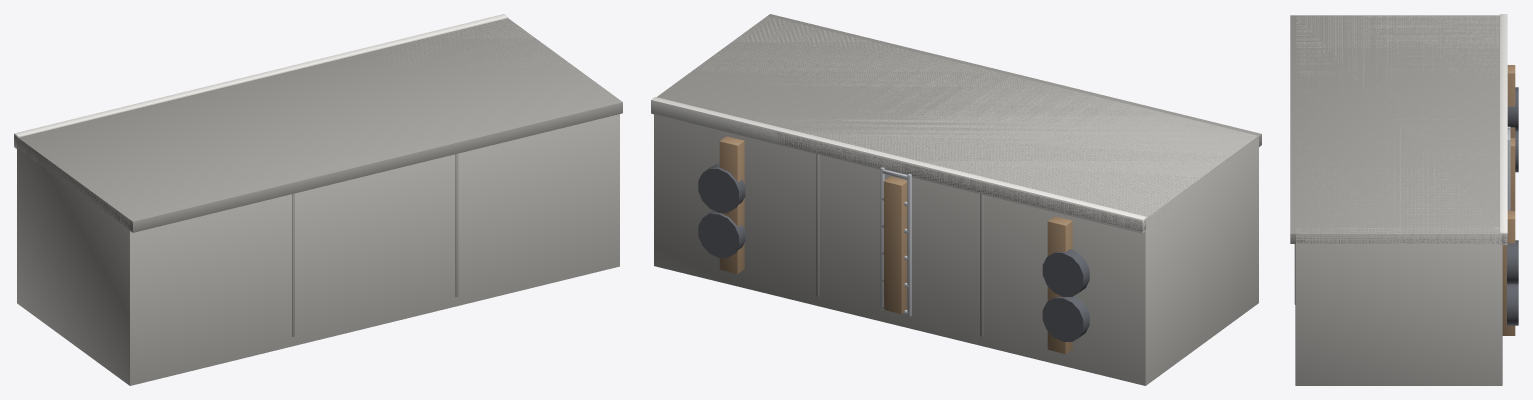
Rendered from th45_kaimauer.glb.
3 views of the same model, side by side, from view 1: azimuth 30°, elevation 25°; view 2: azimuth 150°, elevation 25°; view 3: azimuth 270°, elevation 25° (orthographic). The views are drawn at different scales.
Visible parts, largest first — view 1: Cube, Cube.001, Cube.002, Cube.015; view 2: Cube, Cube.001, Cube.002, Cube.004, Cube.005, Cylinder.001, Cylinder, Cylinder.003, Cylinder.002, Cube.003, Cube.012, Cube.014 (+2 smaller); view 3: Cube.001, Cube, Cube.002, Cube.005, Cylinder.003, Cylinder.002, Cube.003, Cube.004, Cylinder.001, Cube.013.
Boxes of the visible parts, x1,y1,x2,y2 form: Cube: (17, 19, 619, 385); Cube.001: (14, 18, 622, 232); Cube.002: (14, 14, 508, 149); Cube.015: (455, 153, 458, 297); Cube: (654, 16, 1258, 385); Cube.001: (656, 14, 1261, 231); Cube.002: (651, 97, 1146, 233); Cube.004: (883, 176, 907, 313); Cube.005: (719, 136, 744, 273); Cylinder.001: (1042, 249, 1089, 296); Cylinder: (1042, 296, 1089, 341); Cylinder.003: (698, 164, 745, 212); Cylinder.002: (698, 211, 745, 257); Cube.003: (1047, 216, 1072, 353); Cube.012: (907, 174, 911, 316); Cube.014: (980, 194, 983, 336); Cube.001: (1290, 15, 1507, 243); Cube: (1295, 15, 1502, 385); Cube.002: (1500, 14, 1507, 245); Cube.005: (1502, 211, 1515, 335); Cylinder.003: (1507, 240, 1518, 284); Cylinder.002: (1507, 284, 1518, 325); Cube.003: (1507, 65, 1515, 137); Cube.004: (1510, 138, 1515, 210); Cylinder.001: (1507, 87, 1518, 131); Cube.013: (1507, 138, 1510, 210).
Size of the model in its own units: 8 by 2.62 by 3.53.
